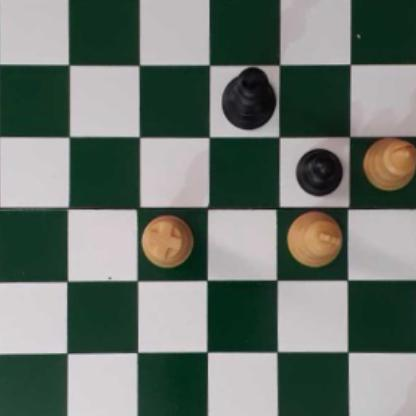black-king: (218, 66, 276, 129)
black-pawn: (295, 144, 343, 196)
white-bishop: (364, 135, 416, 192)
white-king: (285, 209, 343, 269)
white-rook: (141, 214, 193, 267)
